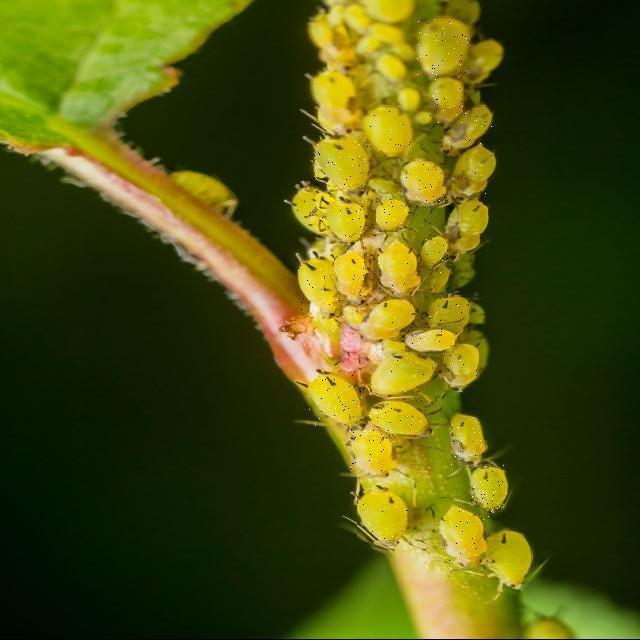aphid: (418, 18, 471, 77), (308, 372, 362, 426), (298, 259, 344, 319), (486, 530, 532, 590), (315, 139, 369, 190), (371, 353, 436, 395), (357, 492, 409, 542), (441, 508, 488, 561), (364, 107, 413, 157), (311, 70, 359, 121), (452, 145, 496, 196), (379, 242, 421, 294), (445, 107, 492, 152), (369, 401, 429, 436), (352, 430, 395, 477), (292, 187, 334, 235), (400, 161, 446, 204), (452, 415, 486, 467), (471, 466, 508, 513), (306, 12, 346, 54), (427, 297, 471, 335), (429, 78, 465, 124), (334, 253, 366, 299), (329, 203, 365, 242), (369, 300, 415, 330), (406, 330, 456, 353), (377, 199, 411, 232), (443, 345, 479, 376), (375, 52, 410, 83), (421, 237, 448, 265), (396, 86, 422, 112), (431, 266, 450, 294)
